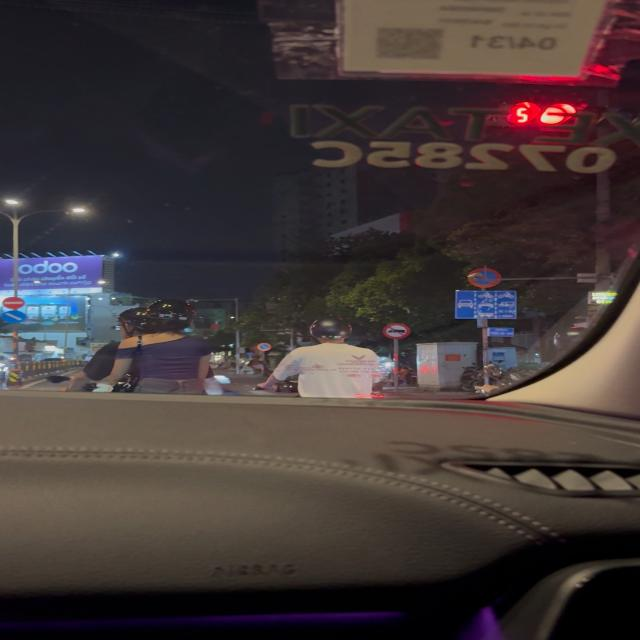Bien bao cam do xe: (257, 342, 273, 352)
Bien bao cam xe so-mi ro-mooc: (382, 322, 414, 340)
